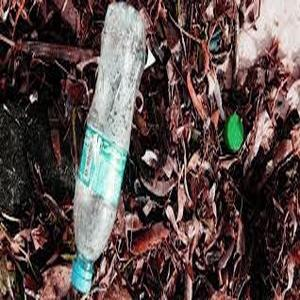Plastic: (70, 1, 151, 294)
